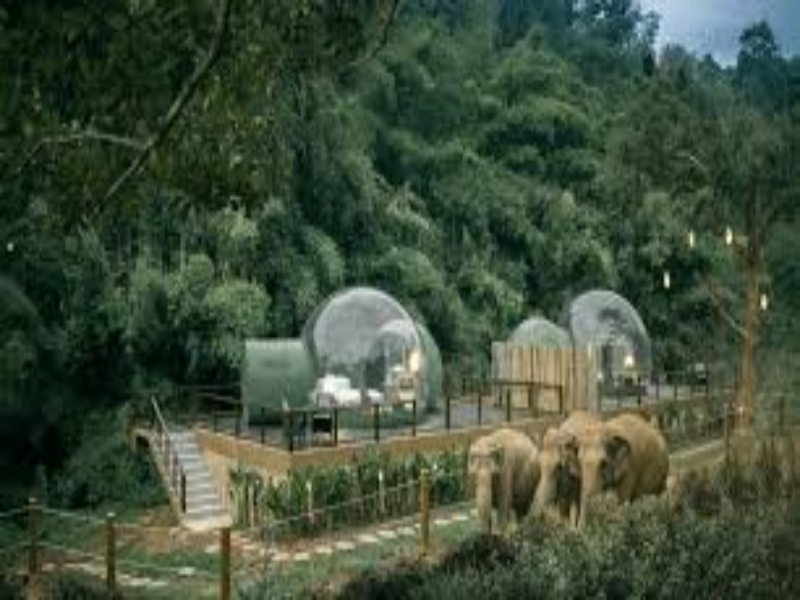elephant: (462, 393, 685, 535)
